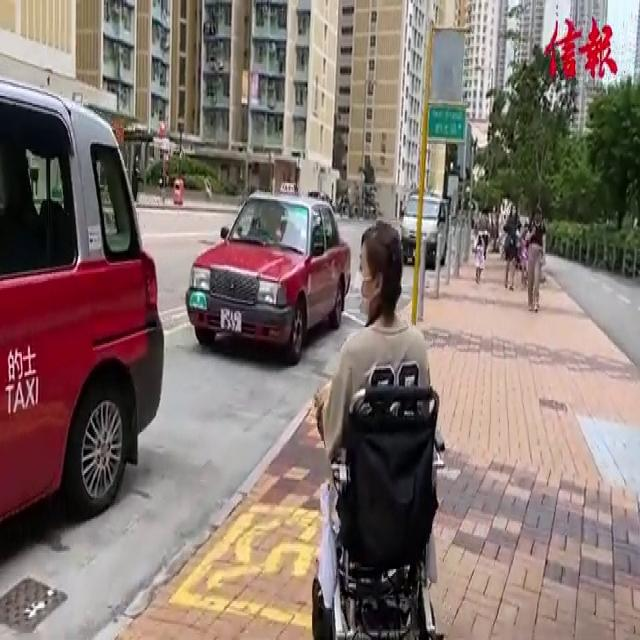wheelchairs: (307, 356, 451, 640)
